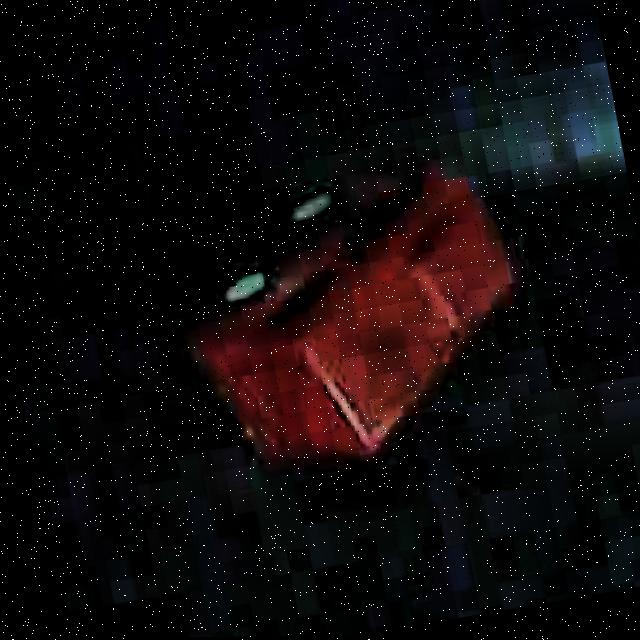bus: (150, 146, 564, 502)
